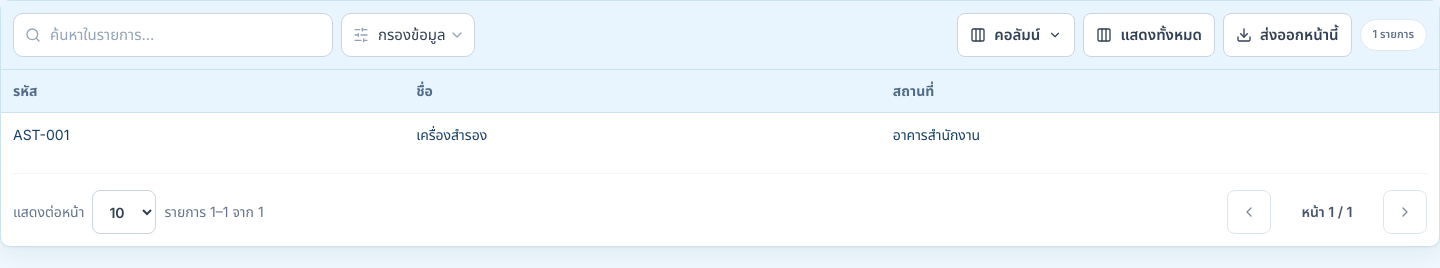
DataTable › keeps the correct mobile field labels when a preceding column is hidden
This screenshot has width=1440, height=268.
What coordinates should you click on to do the following:
click the button "คอลัมน์"
I would click on:
 (1016, 35)
Its box is [957,13,1075,57].
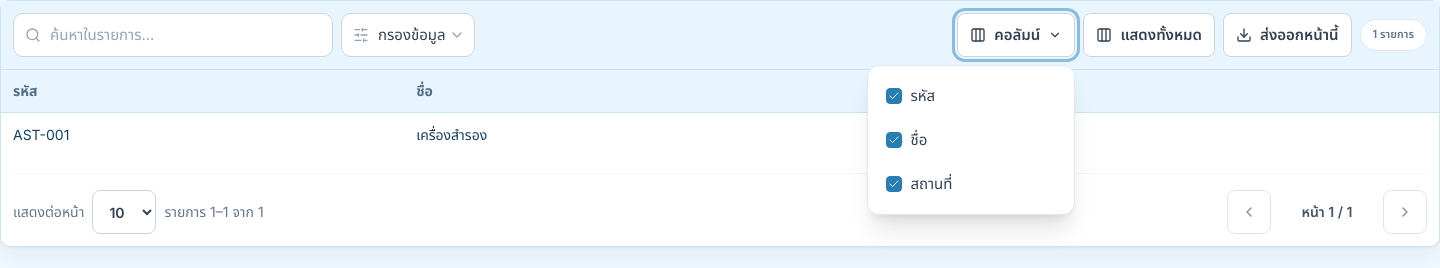
What coordinates should you click on to do the following:
click the button "รหัส"
I would click on:
 (971, 96)
Its box is [876,74,1066,118].
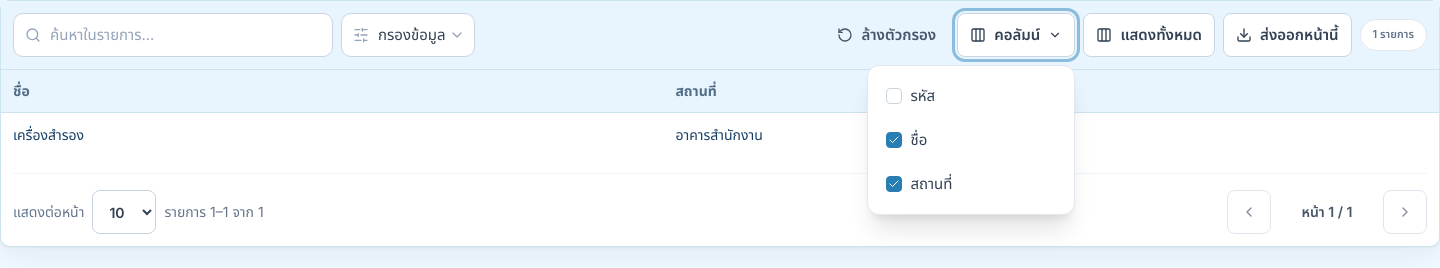
Now the text "AST-001" is gone
